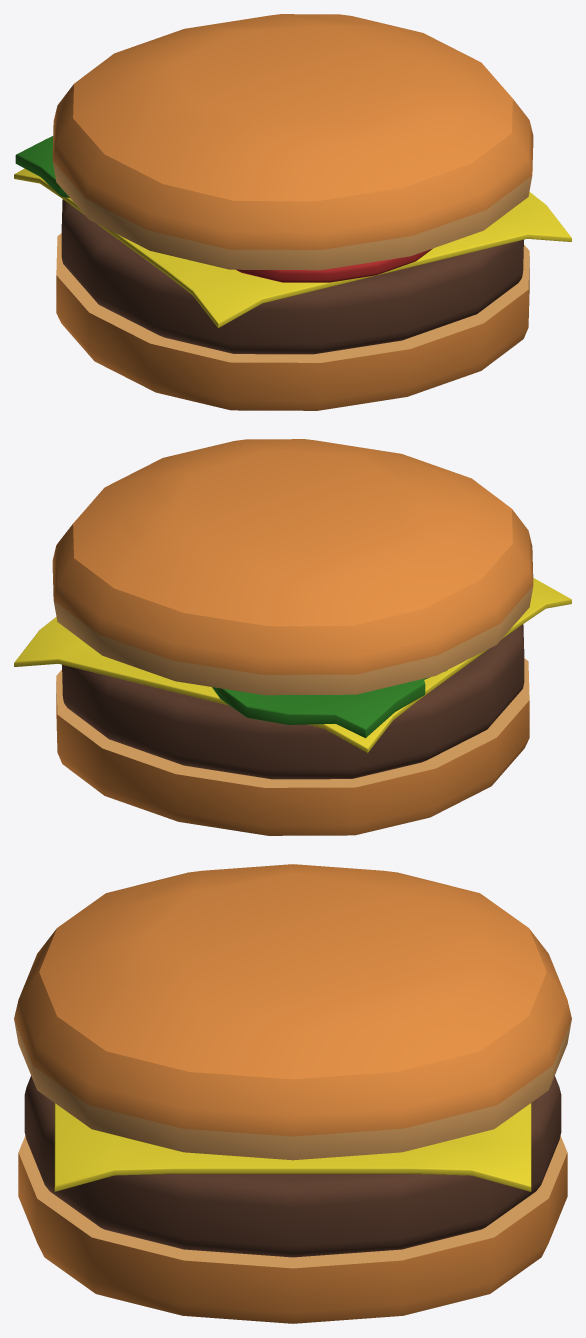
The model's file is burger.fbx.
3 views of the same model, one above another, from view 1: azimuth 30°, elevation 25°; view 2: azimuth 150°, elevation 25°; view 3: azimuth 270°, elevation 25° (orthographic). The views are drawn at different scales.
Visible parts, largest first — view 1: bread; view 2: bread; view 3: bread.
Part boxes in pixels (left/top/right/bottom): bread: left=14, top=14, right=571, bottom=410; bread: left=14, top=439, right=571, bottom=835; bread: left=14, top=864, right=571, bottom=1323.
Bounding box in the file's own units: 186 × 105 × 186.
